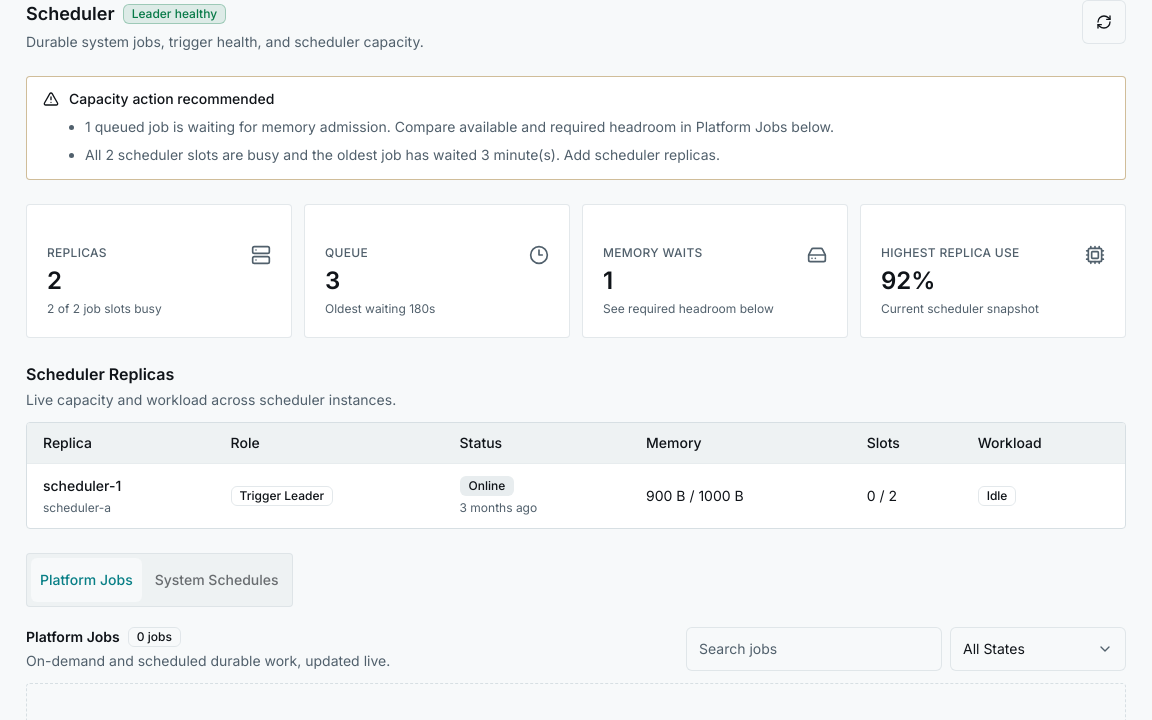
Test: SchedulerTab › shows schedule state and both scaling signals
Expected: the tab "Platform Jobs" is shown, [31,558,142,602]
Expected: the heading "Scheduler Replicas" is shown, [26,364,174,384]
Click the tab "System Schedules": (217, 580) [146,558,288,602]
(page scrolled)
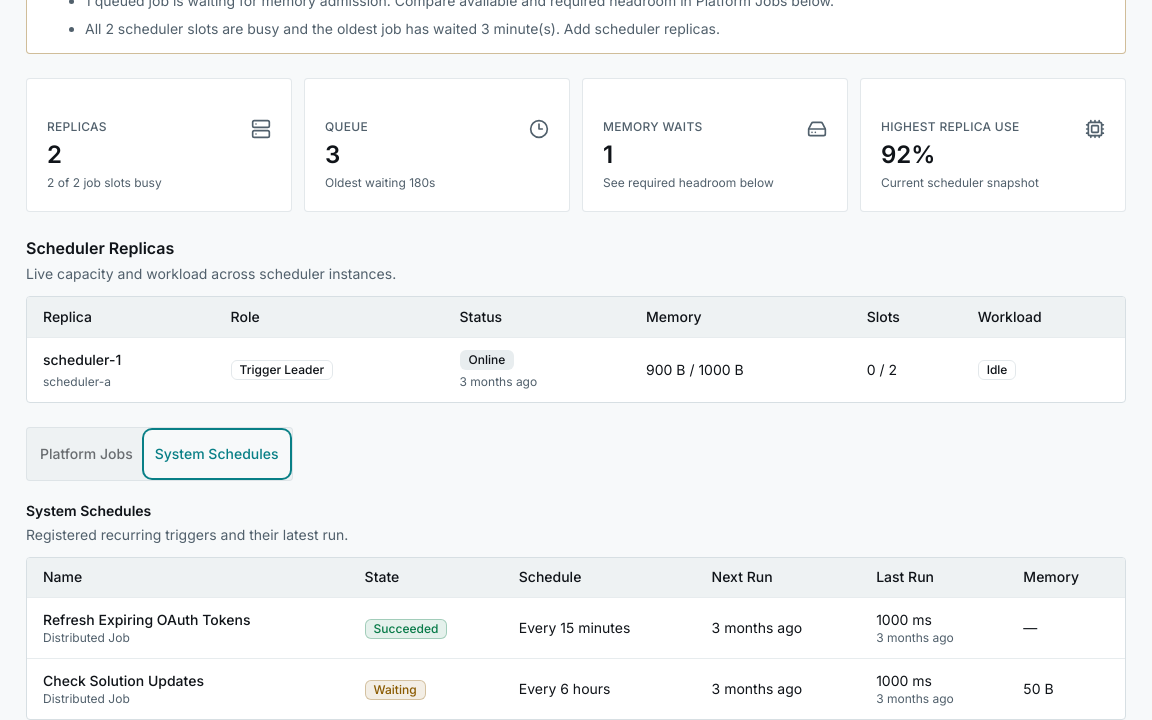
Expected: the table named "View recent runs for Refresh Expiring OAuth Tokens" is shown, [27,558,1125,719]
Expected: the column headings read "Name", "State", "Schedule", "Next Run", "Last Run", "Memory", in this order, [27,558,349,598]; [349,558,503,598]; [503,558,696,598]; [696,558,860,598]; [860,558,1007,598]; [1007,558,1125,598]
Expected: the text "—" is shown, [1007,598,1125,658]
Click the row named "View recent runs for Refresh Expiring OAuth Tokens": (576, 628) [27,598,1125,658]
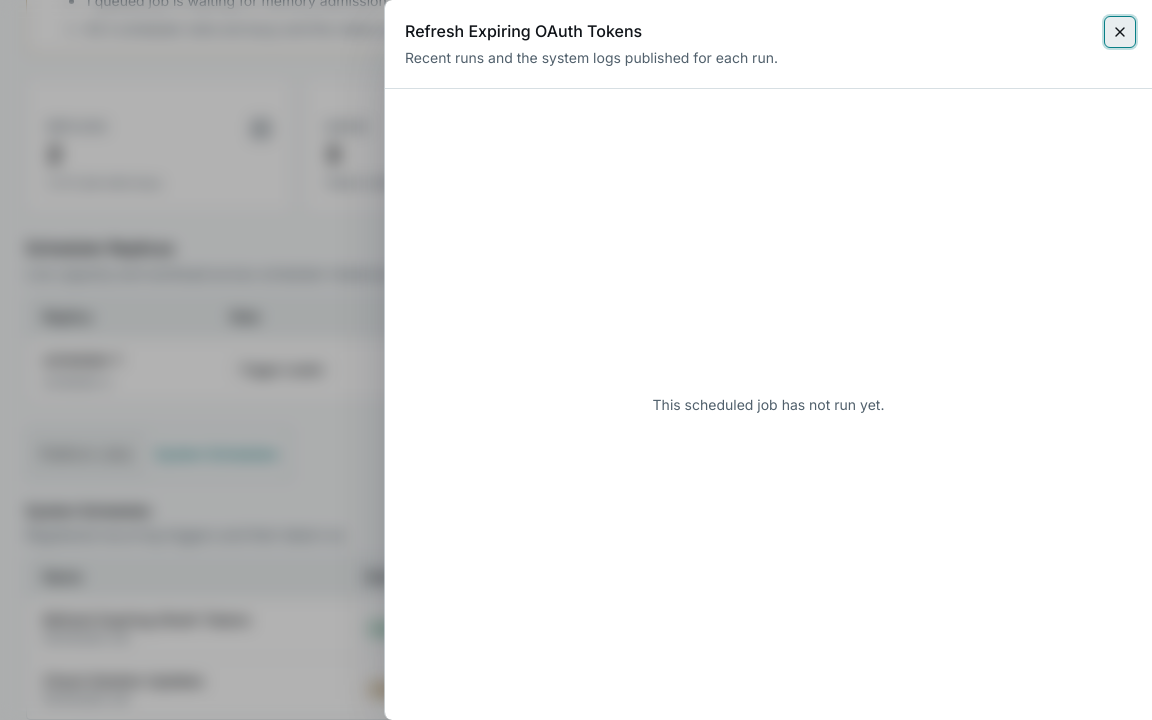
Expected: the dialog shows "Refresh Expiring OAuth Tokens", [405,21,642,41]
